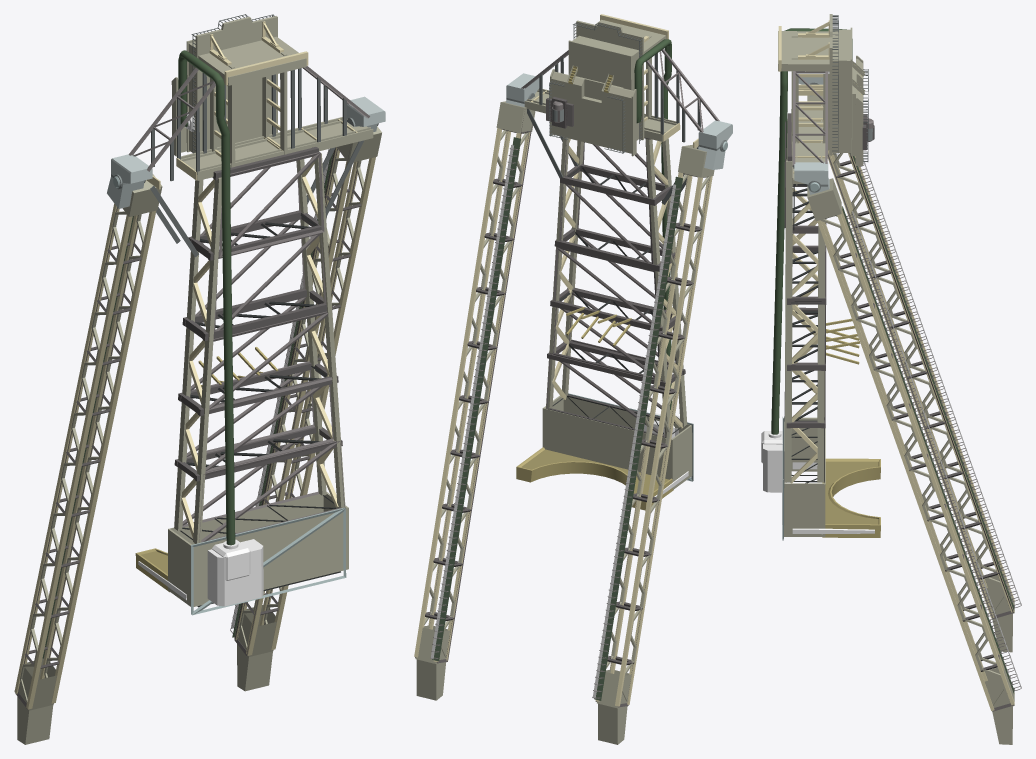
File: launch_site4.glb
3 views of the same model, side by side, from view 1: azimuth 30°, elevation 25°; view 2: azimuth 150°, elevation 25°; view 3: azimuth 270°, elevation 25° (orthographic). The views are drawn at different scales.
Parts seen in each view (by area): view 1: object 76, object 74, object 42, object 15, object 44, Cylinder.040, object 75, object 64, object 43, object 7, Cube.135, object 63 (+25 smaller); view 2: object 76, object 74, Plane.162, object 42, object 15, object 62, object 75, object 25, object 43, object 44, object 2, object 27 (+16 smaller); view 3: object 76, object 74, object 75, object 27, Cylinder.040, object 42, object 5, object 44, Plane.162, object 15, object 43, object 63 (+17 smaller).
Part boxes in pixels (box(x1,y1,x2,y2)): object 76: box(14, 147, 375, 709); object 74: box(17, 126, 381, 744); object 42: box(168, 492, 348, 606); object 15: box(174, 147, 342, 481); object 44: box(193, 153, 345, 543); Cylinder.040: box(178, 50, 235, 545); object 75: box(15, 144, 361, 709); object 64: box(195, 16, 277, 151); object 43: box(174, 159, 326, 530); object 7: box(180, 117, 373, 180); Cube.135: box(207, 539, 263, 606); object 63: box(198, 36, 306, 85); object 76: box(414, 128, 712, 706); object 74: box(415, 101, 714, 744); Plane.162: box(432, 137, 682, 700); object 42: box(542, 396, 692, 489); object 15: box(547, 137, 685, 386); object 62: box(550, 69, 636, 156); object 75: box(415, 112, 709, 707); object 25: box(430, 145, 675, 698); object 43: box(546, 137, 670, 436); object 44: box(562, 138, 687, 426); object 2: box(568, 40, 632, 90); object 27: box(430, 148, 680, 698); object 76: box(817, 150, 1014, 710); object 74: box(807, 95, 1014, 744); object 75: box(824, 153, 1013, 711); object 27: box(846, 158, 1021, 691); Cylinder.040: box(771, 28, 852, 434); object 42: box(784, 417, 825, 536); object 5: box(832, 29, 850, 152); object 44: box(784, 119, 792, 482); Plane.162: box(842, 156, 1014, 693); object 15: box(786, 113, 826, 428); object 43: box(817, 225, 825, 482); object 63: box(778, 31, 829, 71).
Size of the model in its own units: 5.23 by 14.63 by 5.2.
